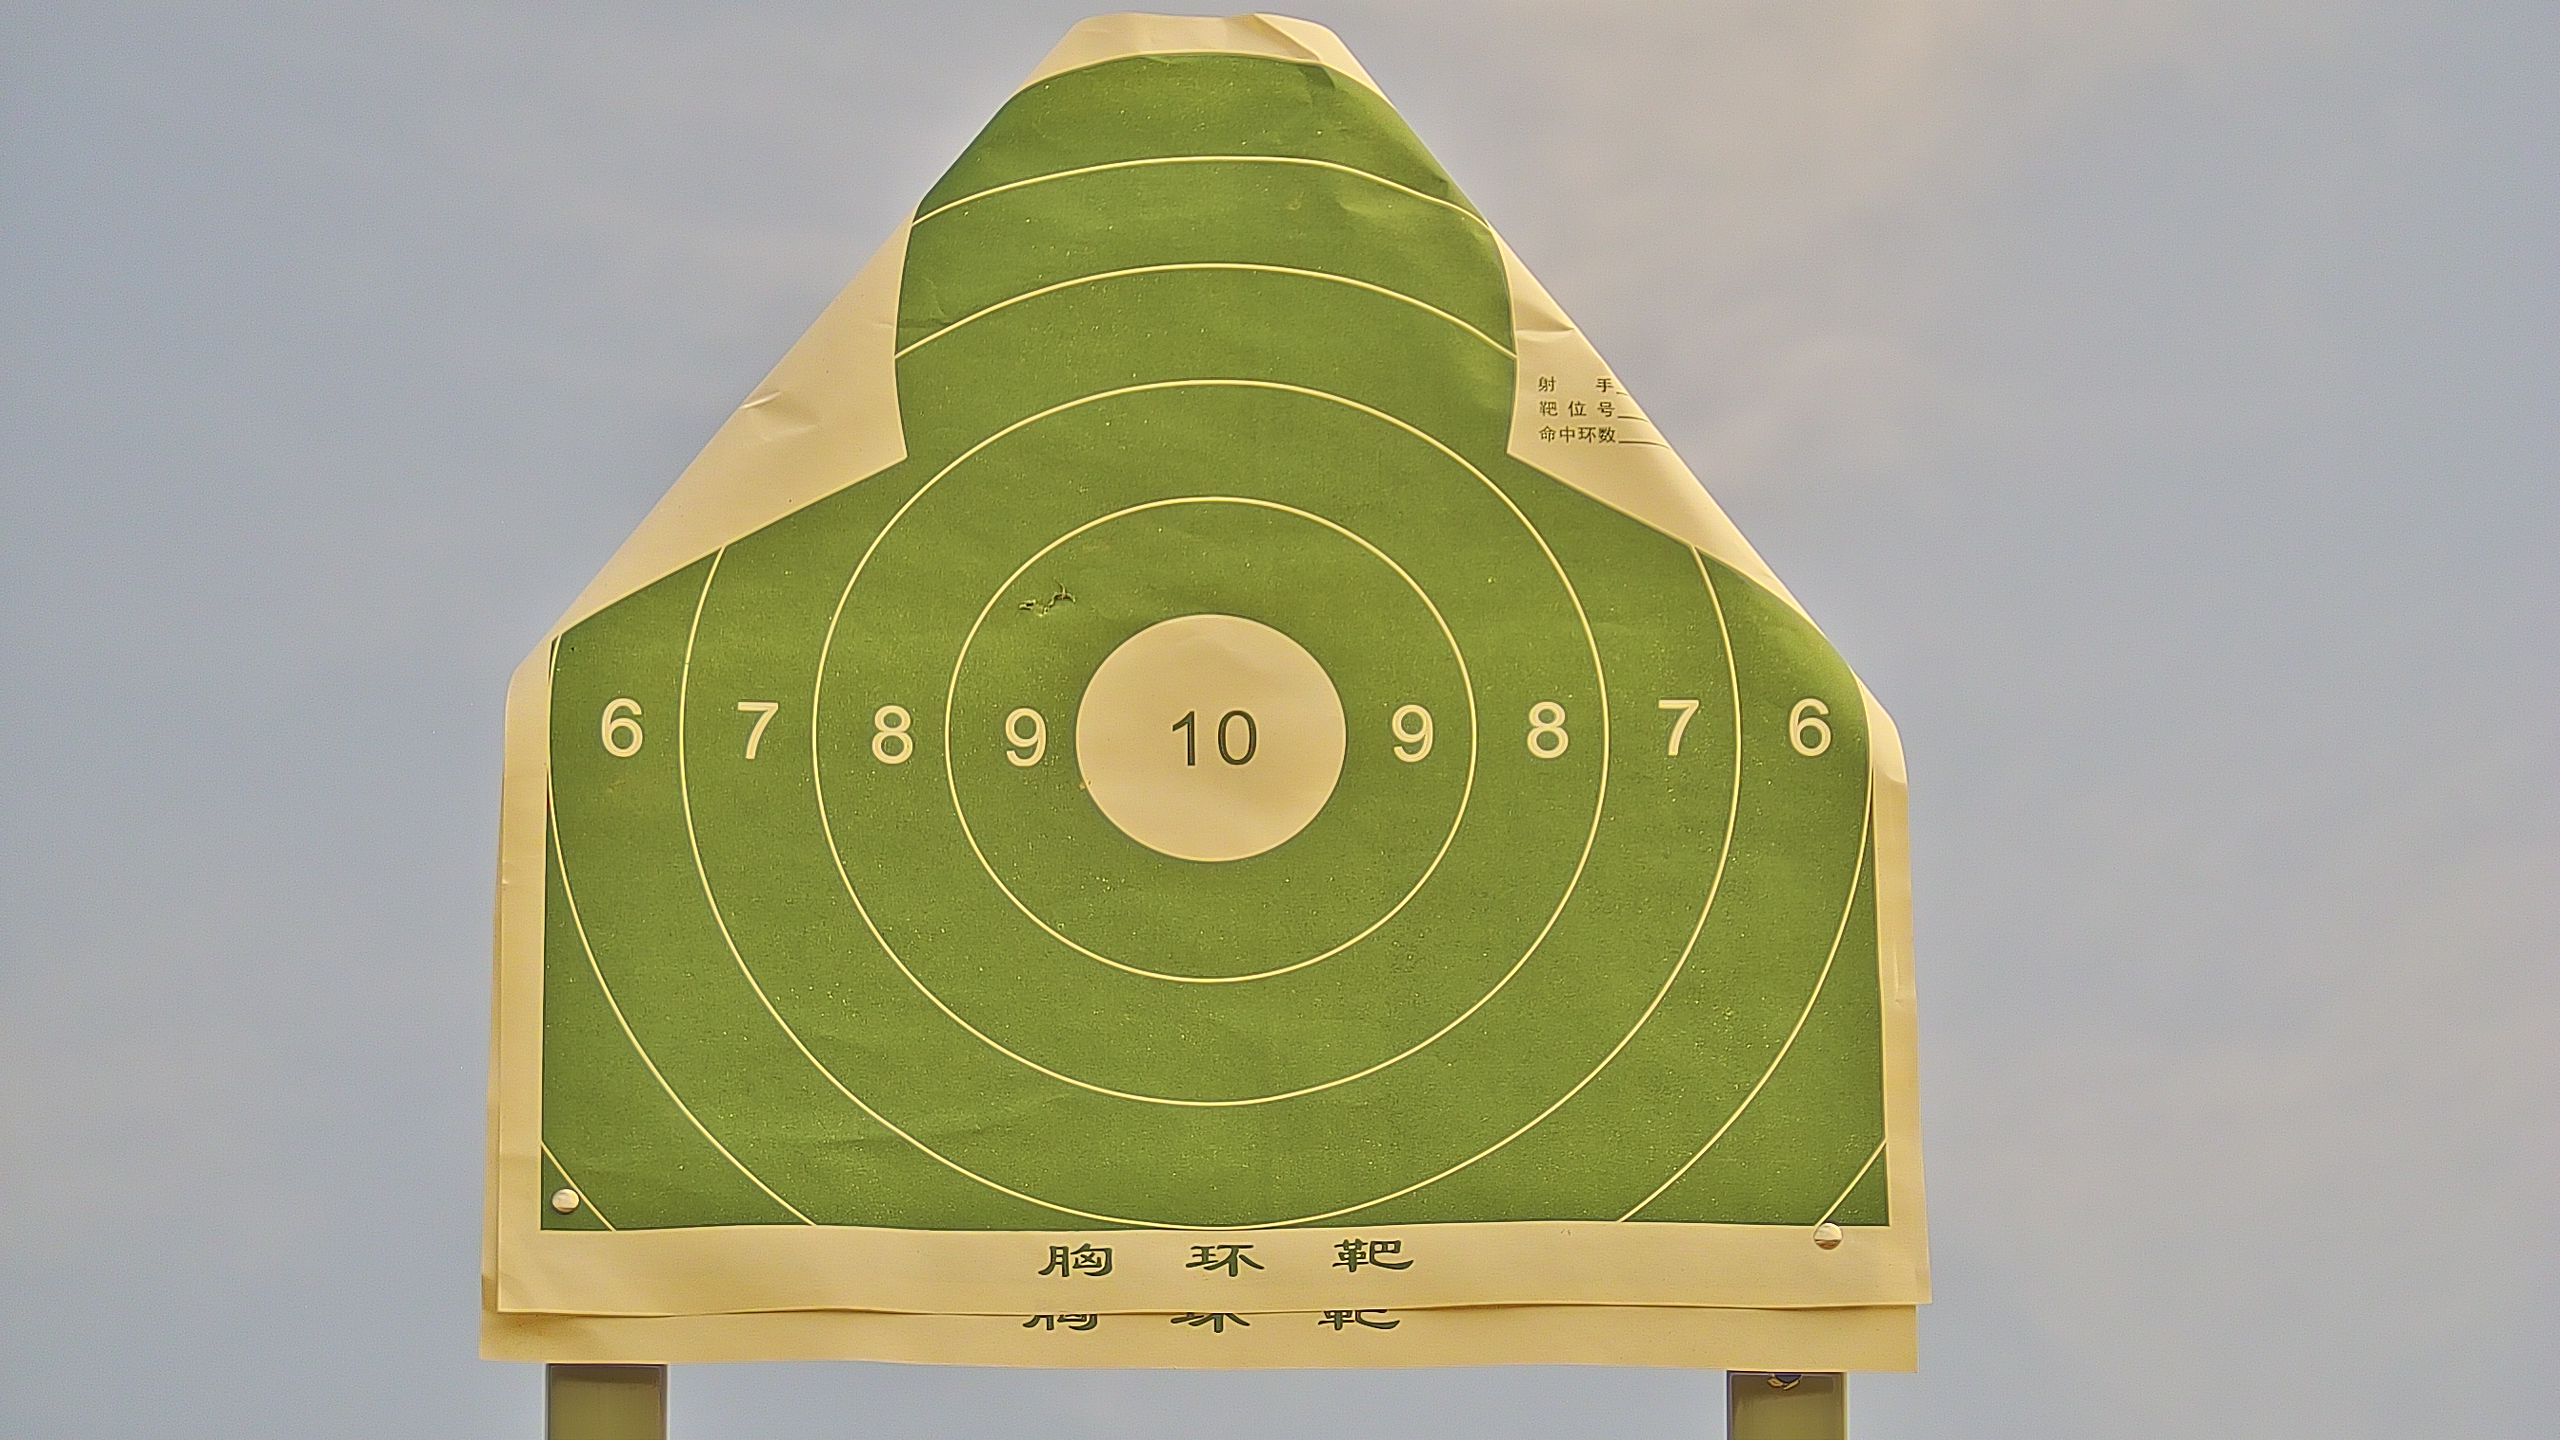kernel: (1204, 731, 1210, 733)
target: (540, 49, 1890, 1240)
ten: (1067, 607, 1354, 862)
